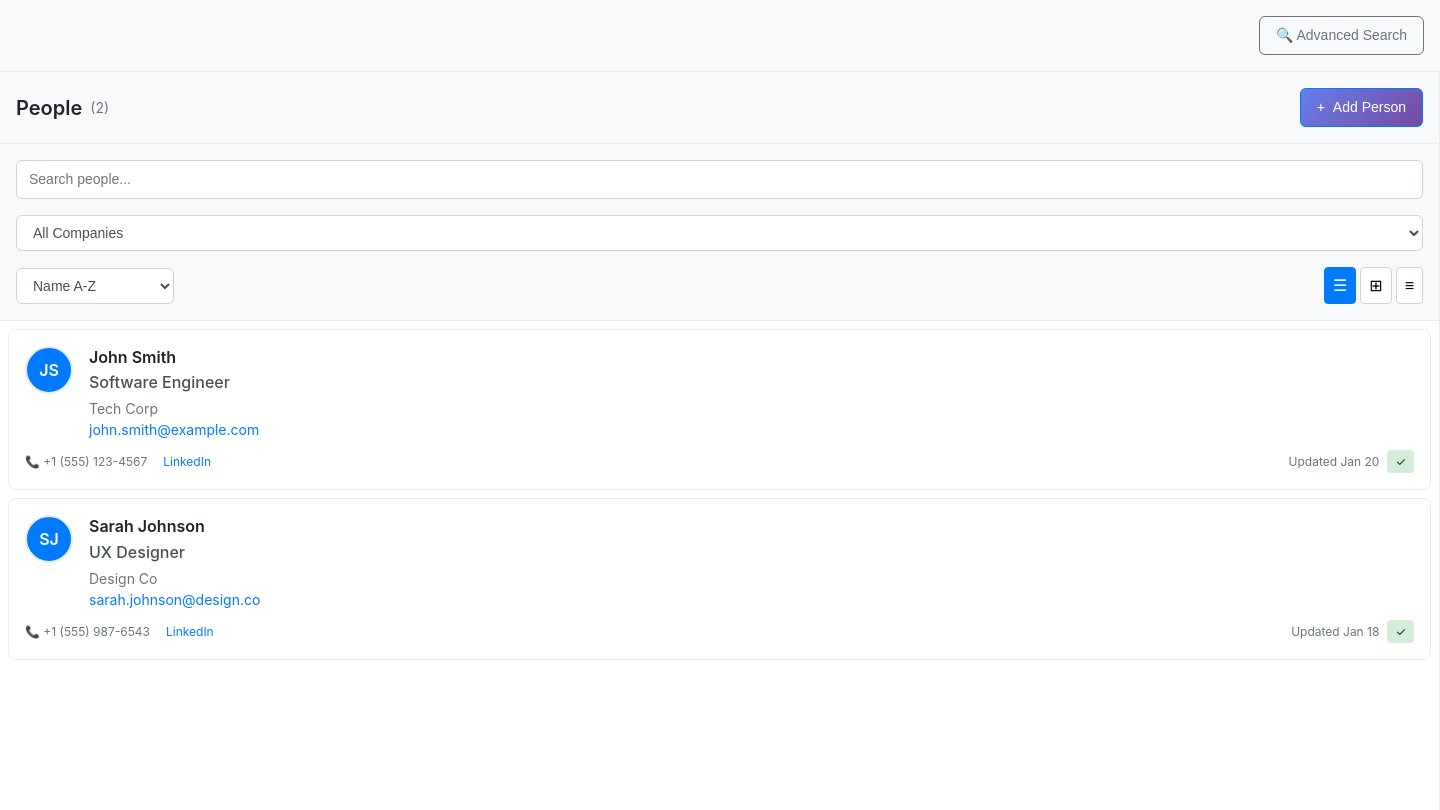
Test: PeoplePage › creates new person successfully
The width and height of the screenshot is (1440, 810).
# Open form
Click the button "+ Add Person" at coordinates (1361, 108), box [1300, 88, 1423, 127]
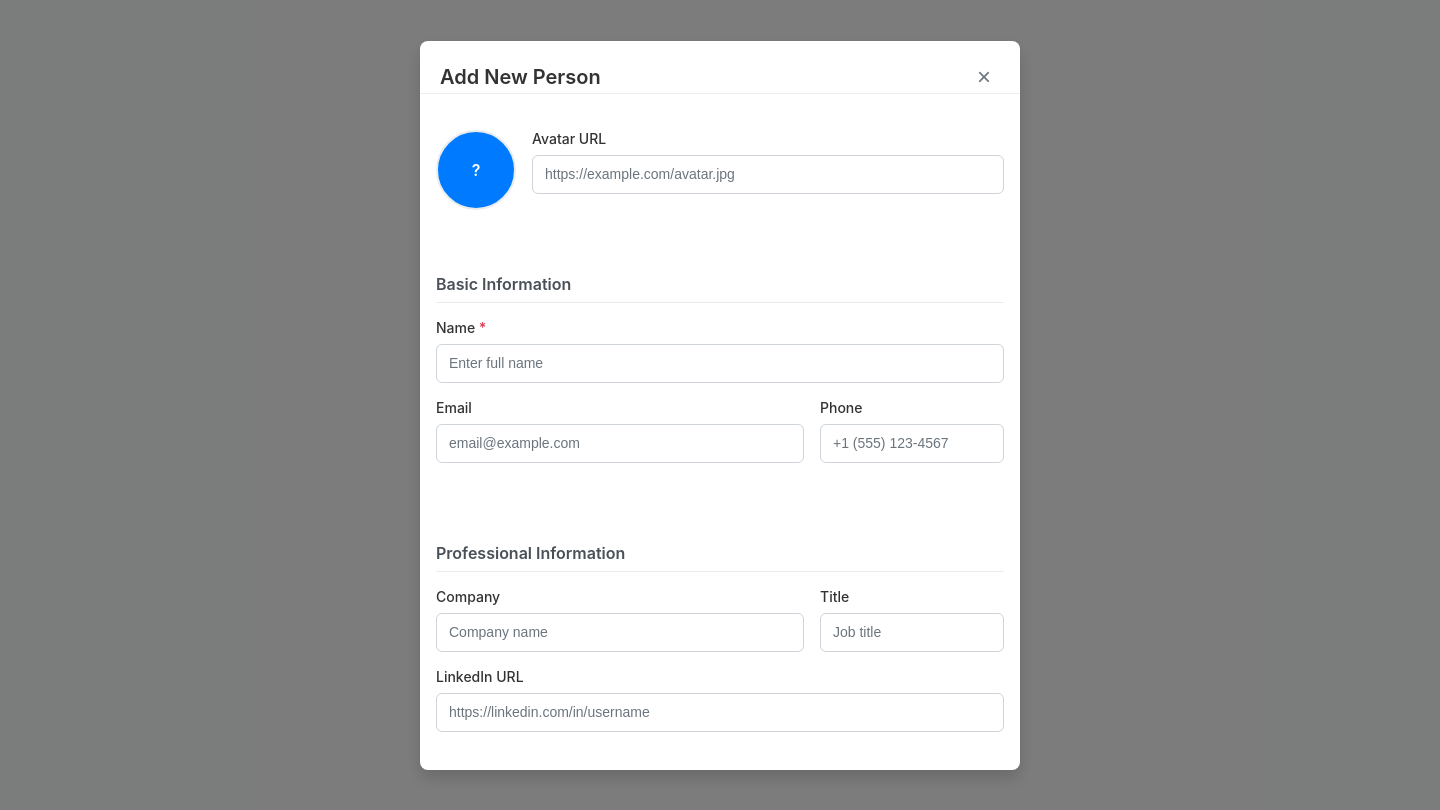
Expected: the heading "Add New Person" is shown, [440, 64, 601, 88]
Type "New Person" into the field with placeholder "Enter full name" at coordinates (720, 363), box [436, 344, 1004, 382]
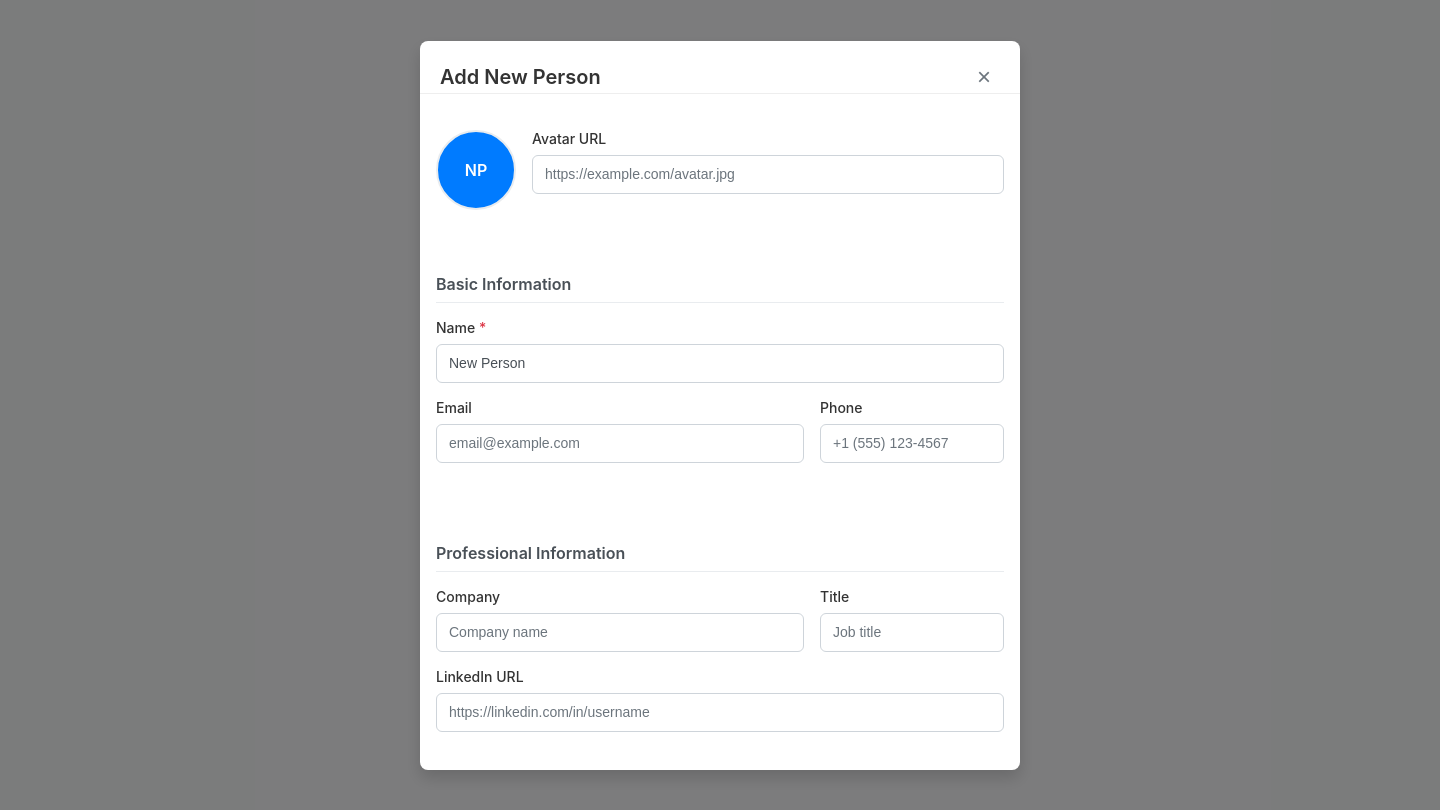
Type "new@example.com" into the field with placeholder "email@example.com" at coordinates (620, 443), box [436, 424, 804, 462]
(page scrolled)
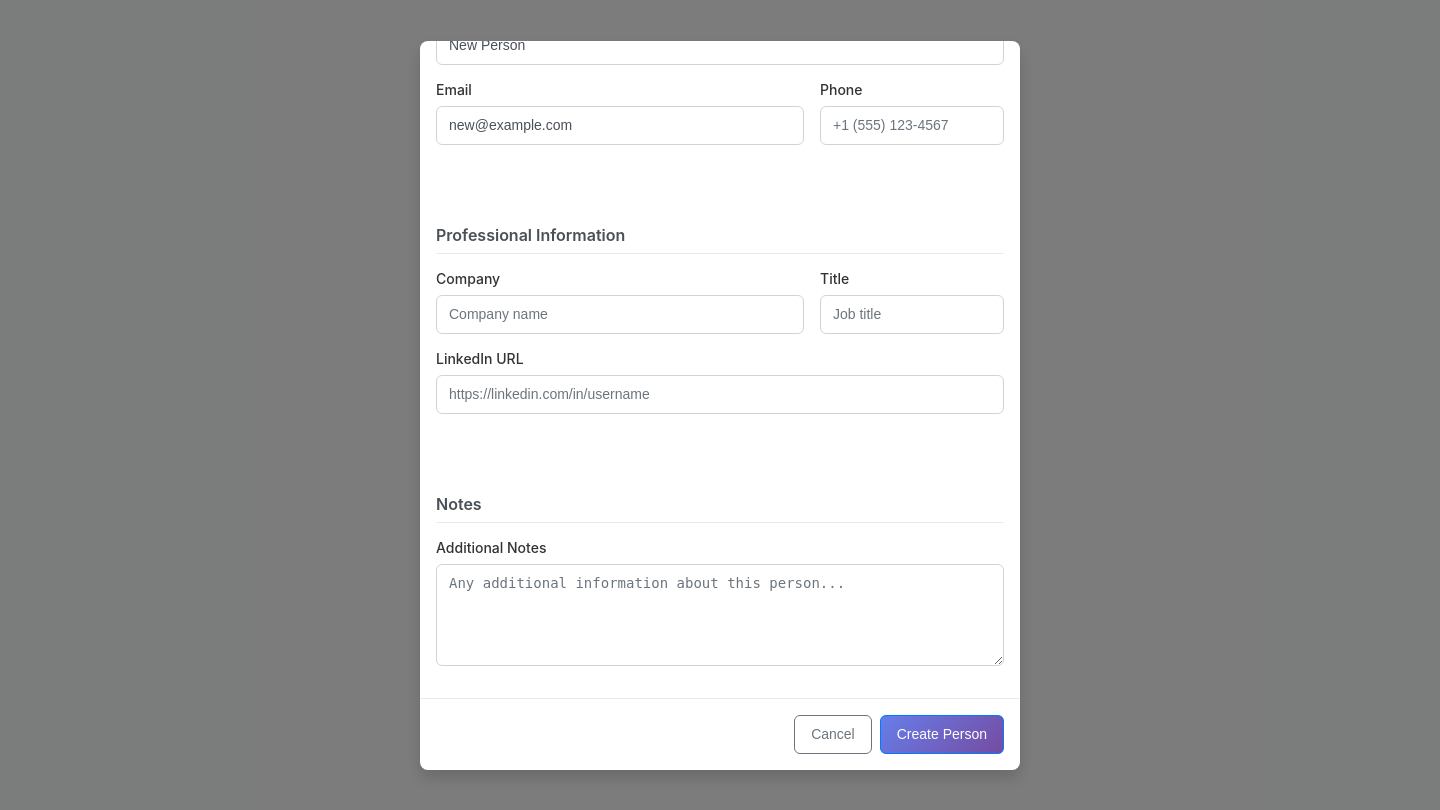
# Submit form
Click the button "Create Person" at coordinates (942, 734), box [880, 714, 1004, 754]
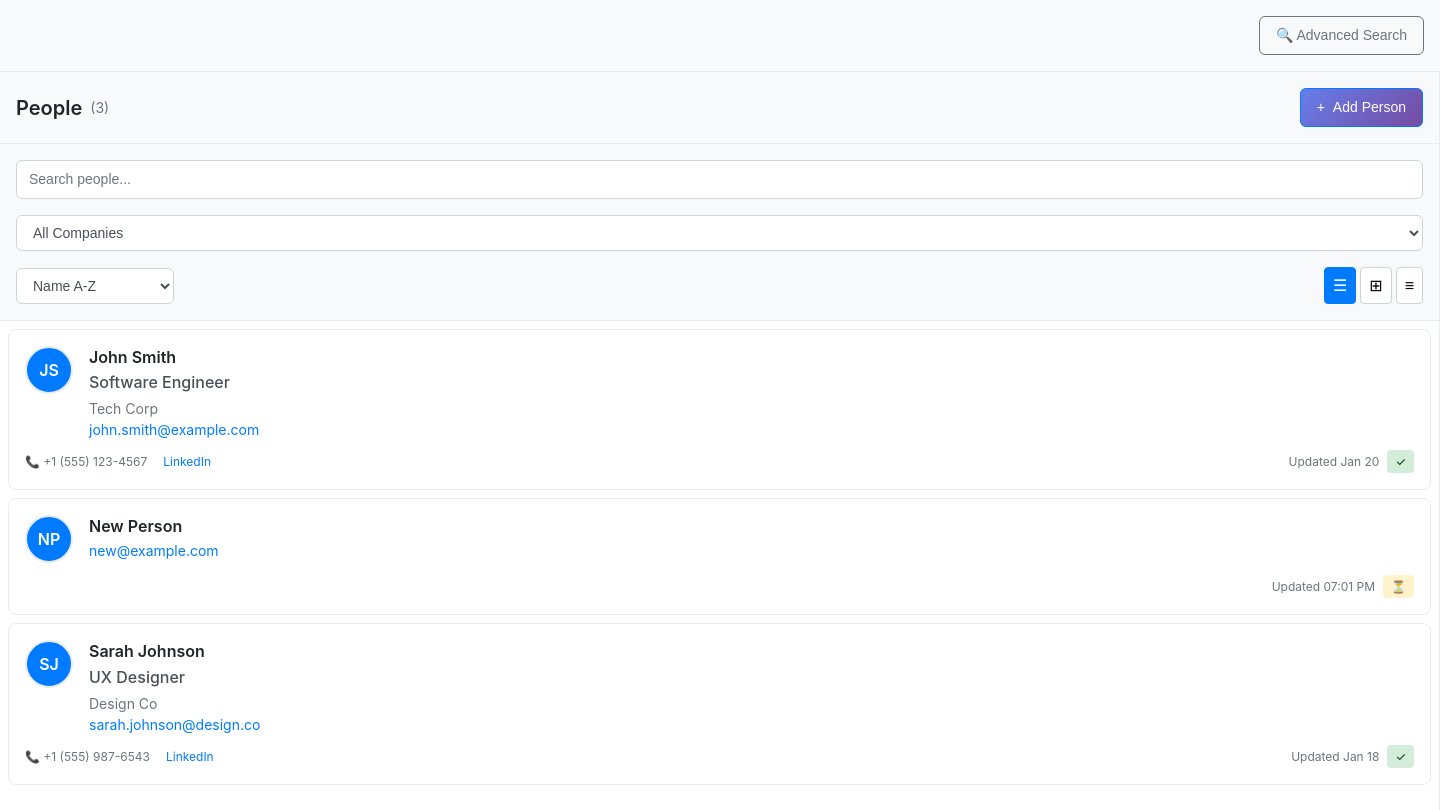
Expected: the heading "People" is shown, [16, 96, 82, 120]
